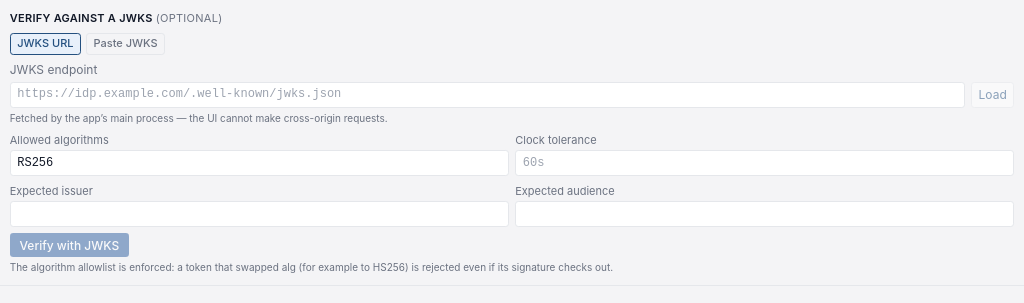
Scenario: Load reports its own progress and leaves the verdict alone (JWT-2) › keeps an existing verification verdict across a later Load
In the field labelled "JWKS endpoint": point(487, 95) [10,82,965,108], type "https://idp.example.test/.well-known/jwks.json"
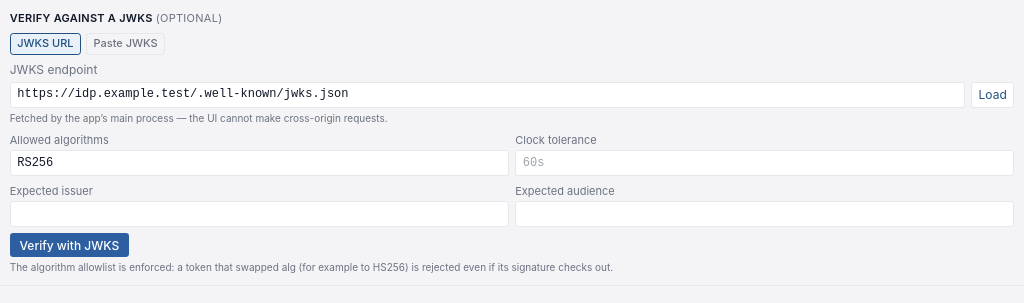
Click the button "Verify with JWKS": point(69, 245) [10,233,129,257]
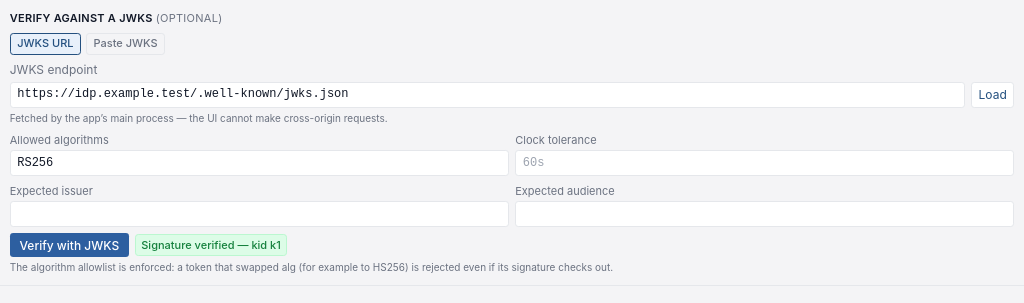
Expected: the text "Signature verified — kid k1" is shown, [135,234,287,256]
Click the button "Load": point(993, 95) [971,82,1014,108]
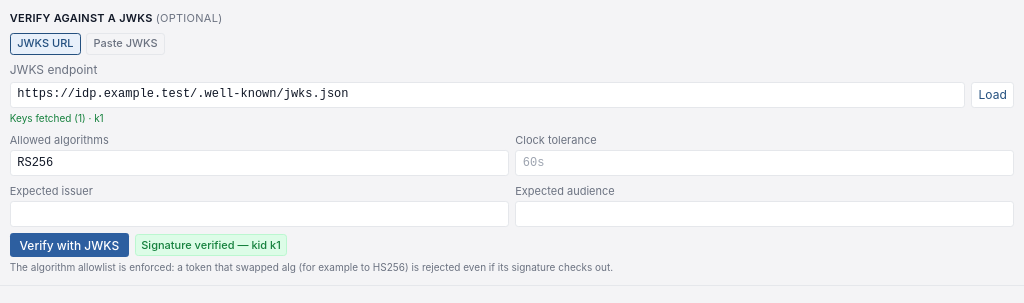
Expected: the text "Signature verified — kid k1" is shown, [135,234,287,256]
Expected: the message "Keys fetched (1) · k1" is shown, [10,112,104,124]
